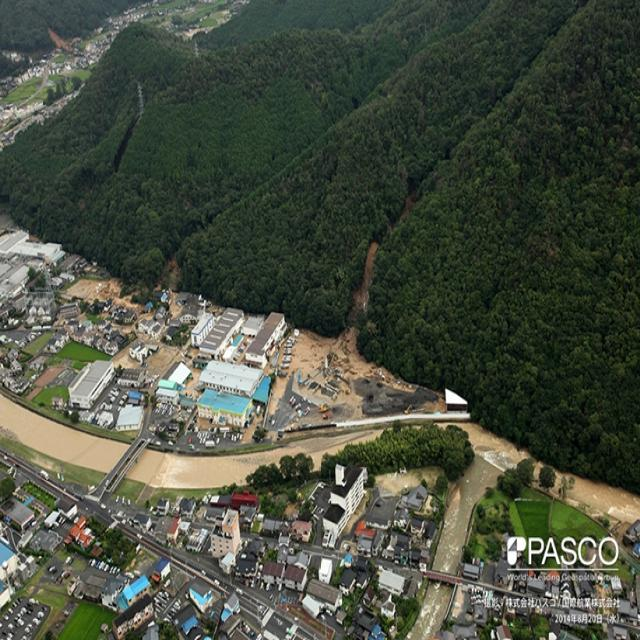Debris-flow: (350, 242, 379, 320)
